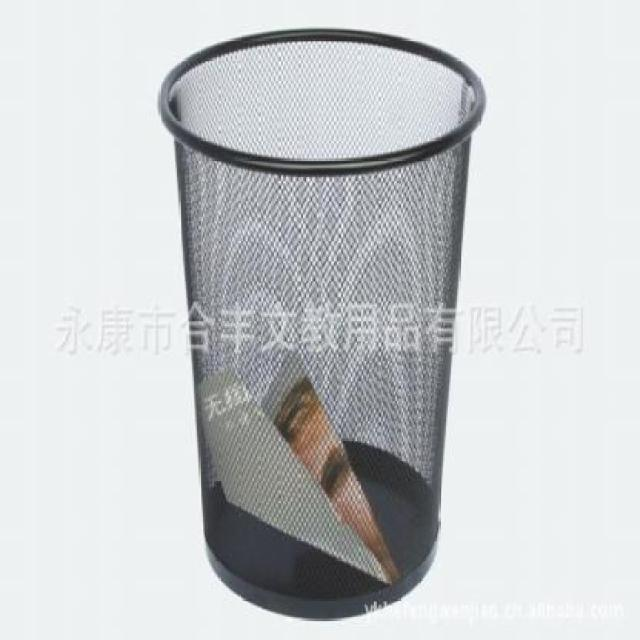dustbin: (154, 20, 491, 624)
